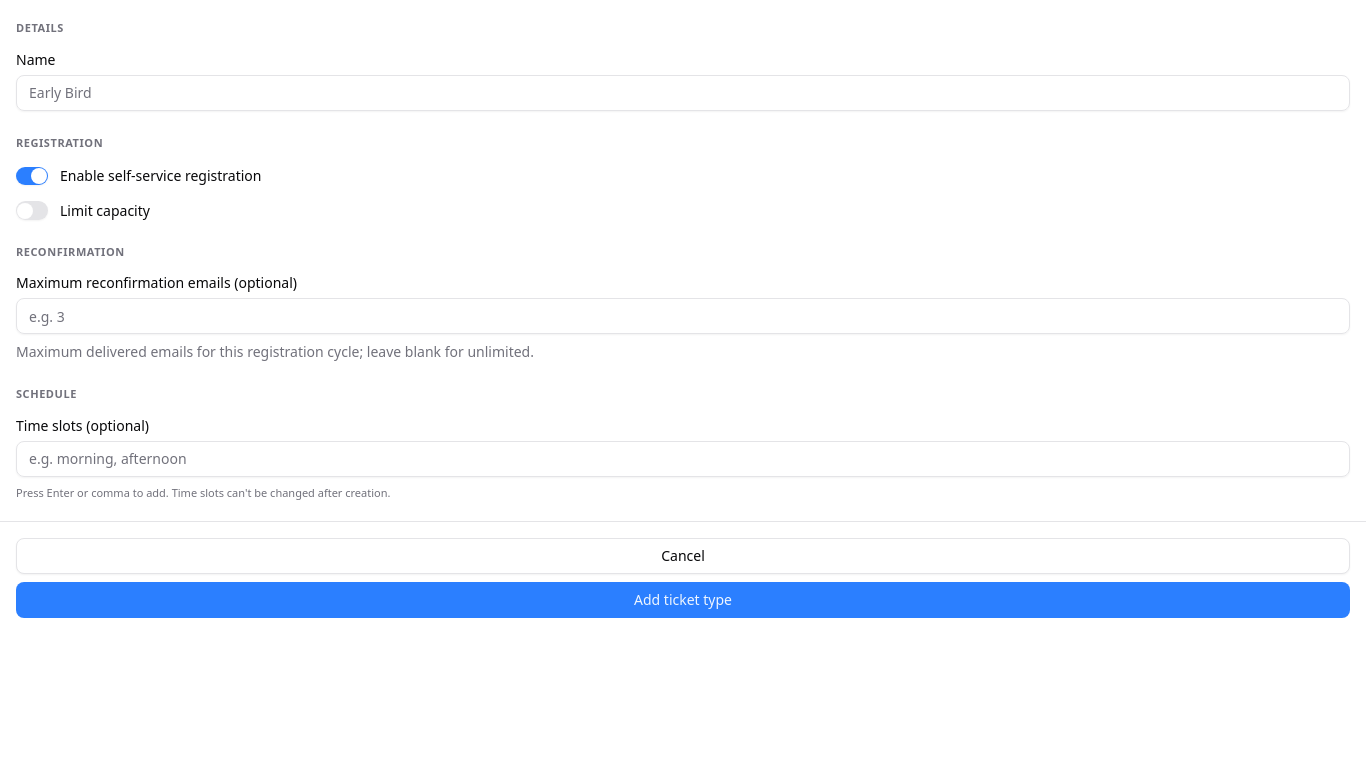
Test: AddTicketTypeForm time slots › rejects a slot that is not a valid slug
In the field with placeholder "e.g. morning, afternoon": (683, 459) [16, 441, 1350, 477], type "Bad Slot!"
Then press Enter
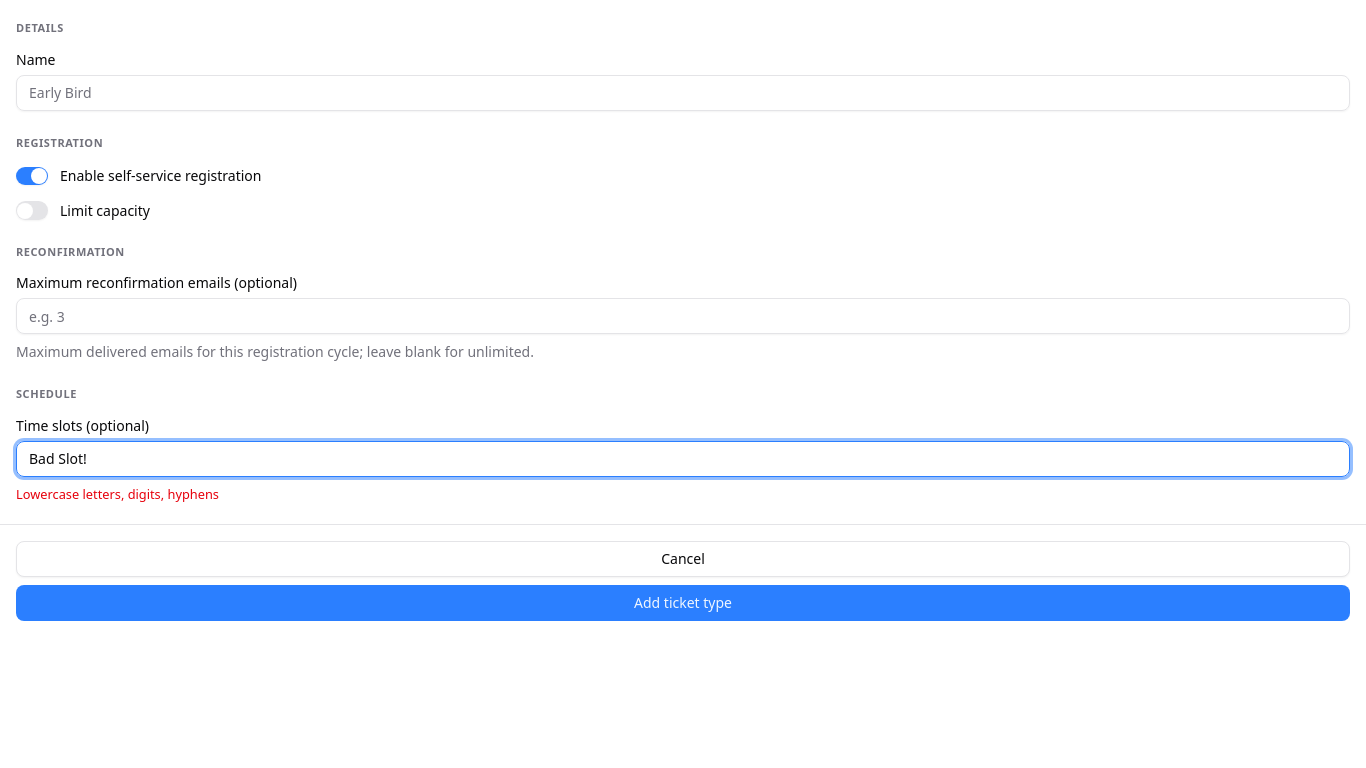
Check: the text "Lowercase letters, digits, hyphens" is shown, box [16, 485, 219, 503]
